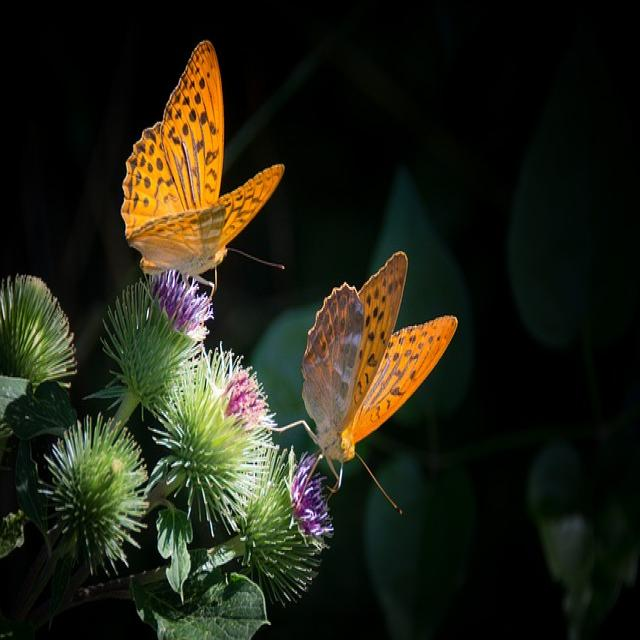butterfly: (121, 41, 284, 275), (302, 252, 458, 463)
